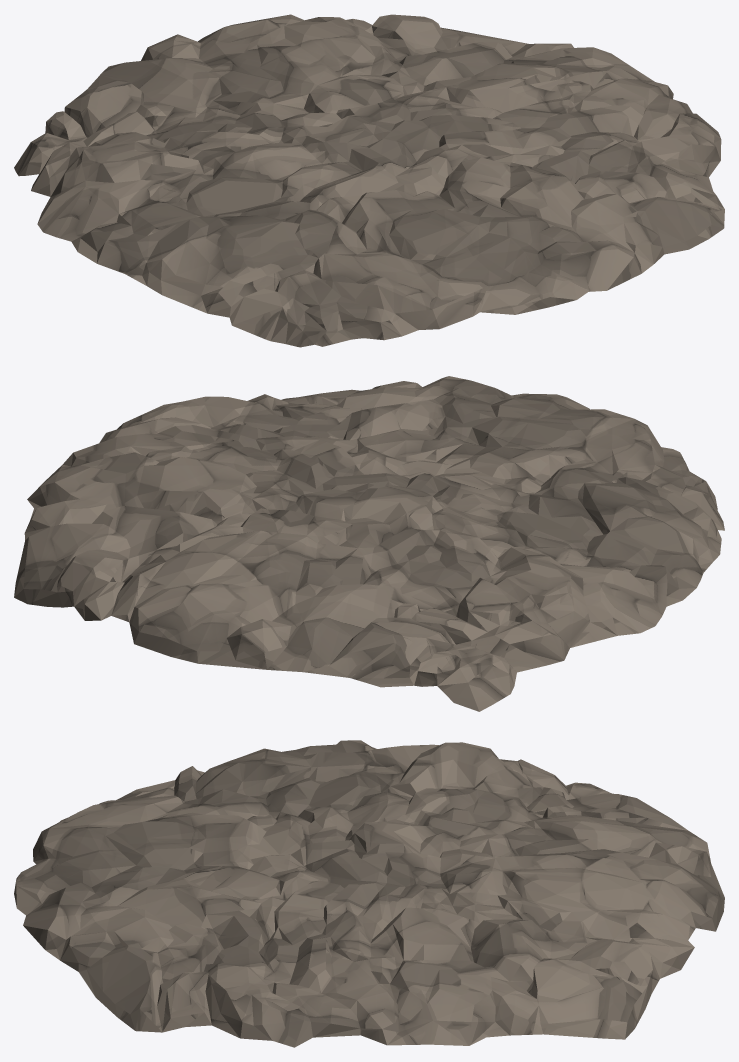
Rendered from source.gltf.
3 renders of one model, top to bottom at view 1: azimuth 30°, elevation 25°; view 2: azimuth 150°, elevation 25°; view 3: azimuth 270°, elevation 25°, orthographic.
Parts seen in each view (by area): view 1: SM_Rock_Tile_02; view 2: SM_Rock_Tile_02; view 3: SM_Rock_Tile_02.
Boxes of the visible parts, bbox=[...] form: SM_Rock_Tile_02: bbox=[14, 14, 724, 347]; SM_Rock_Tile_02: bbox=[14, 376, 724, 711]; SM_Rock_Tile_02: bbox=[14, 740, 724, 1047].
Size of the model in its own units: 26.81 by 3.33 by 27.13.
1 material, 1 textured.
